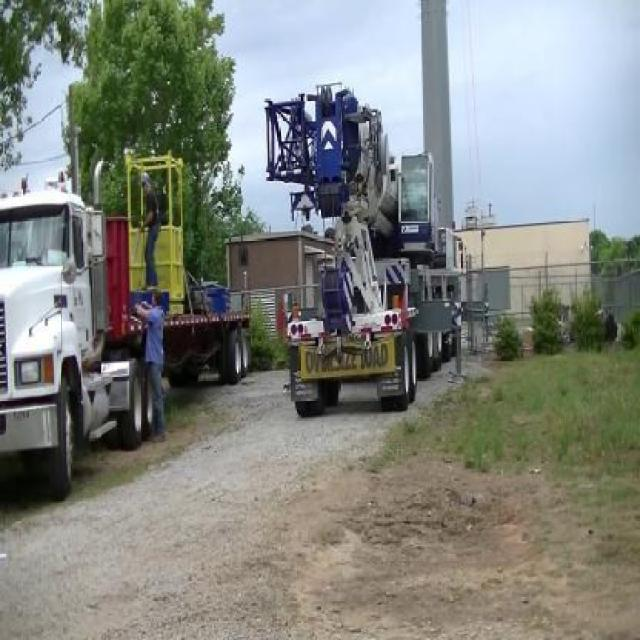Mobile Crane: (263, 89, 459, 411)
